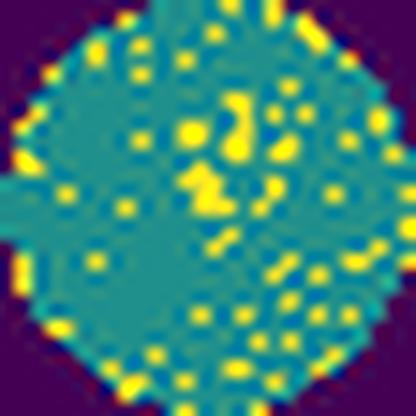Center: (169, 90, 251, 220)
